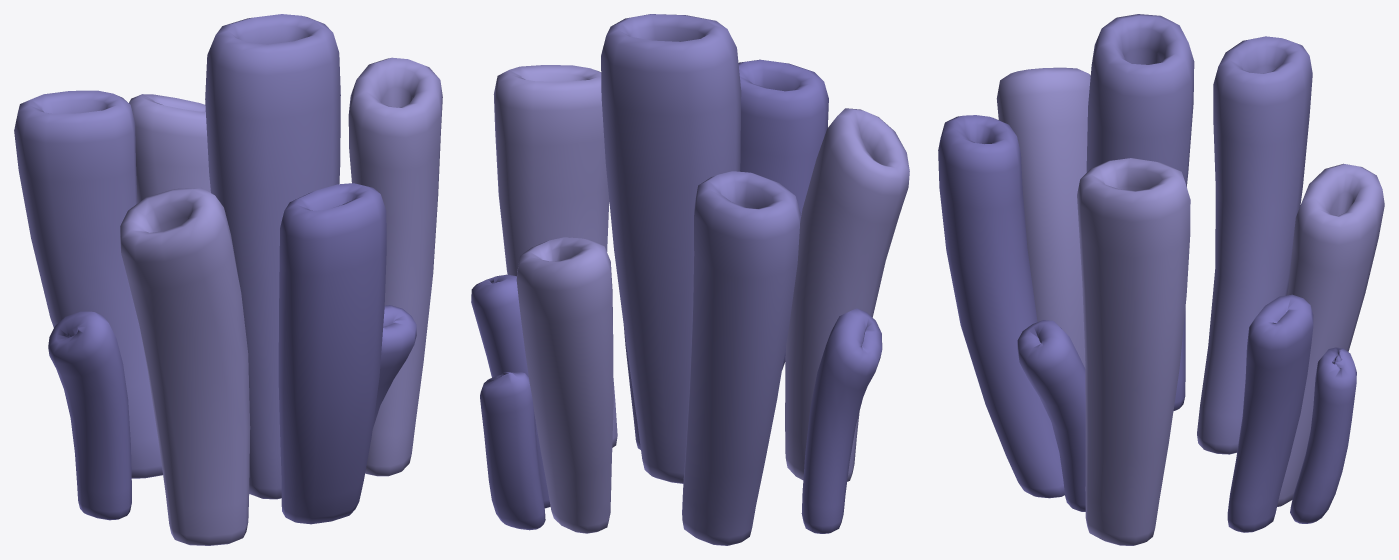
The model's file is Coral_D_03.fbx.
3 views of the same model, side by side, from view 1: azimuth 30°, elevation 25°; view 2: azimuth 150°, elevation 25°; view 3: azimuth 270°, elevation 25° (orthographic).
Visible parts, largest first — view 1: Coral_D_03_LOD0; view 2: Coral_D_03_LOD0; view 3: Coral_D_03_LOD0.
Part boxes in pixels (box(x1,y1,x2,y2)): Coral_D_03_LOD0: box(14, 14, 442, 545); Coral_D_03_LOD0: box(471, 14, 909, 545); Coral_D_03_LOD0: box(938, 14, 1384, 545).
Size of what is drawn, in the model's own units: 420 by 480 by 430.
